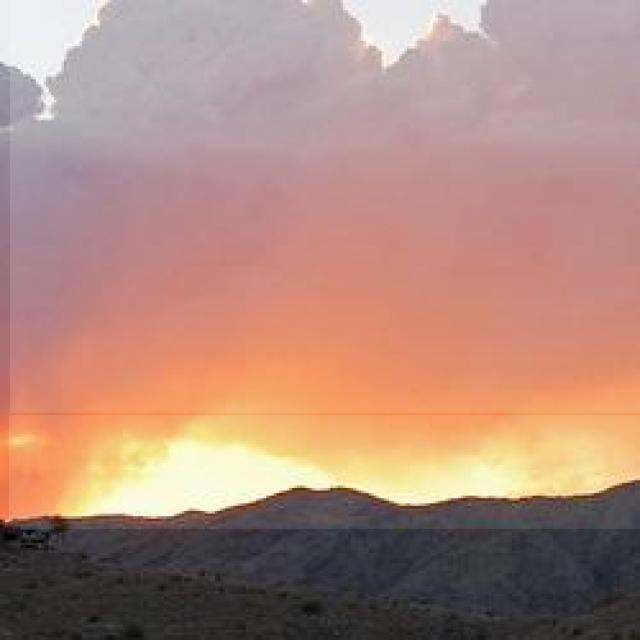Fire: (9, 416, 640, 530)
Smoke: (10, 0, 640, 413)
